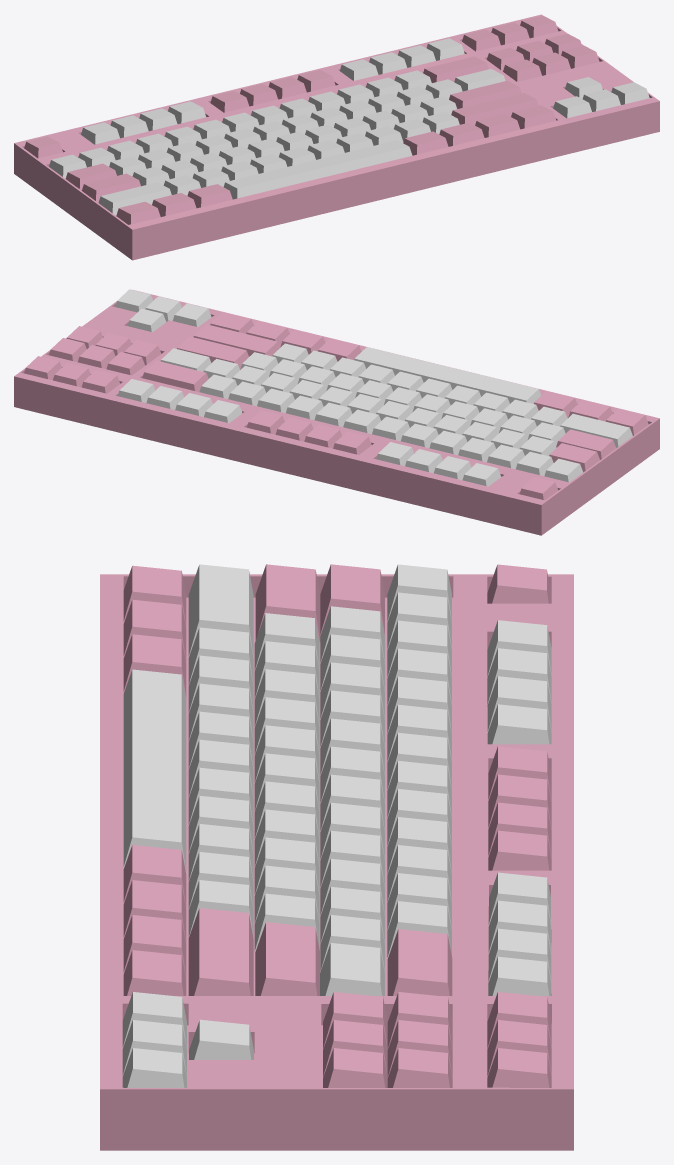
The model's file is keyboard.fbx.
3 views of the same model, one above another, from view 1: azimuth 30°, elevation 25°; view 2: azimuth 150°, elevation 25°; view 3: azimuth 270°, elevation 25° (orthographic). The views are drawn at different scales.
Visible parts, largest first — view 1: Cube, Cube.016, Cube.001, Cube.002, Cube.003, Cube.007, Cube.024, Cube.020, Cube.021, Cube.022, Cube.025, Cube.023 (+16 smaller); view 2: Cube, Cube.016, Cube.001, Cube.002, Cube.003, Cube.024, Cube.007, Cube.020, Cube.021, Cube.022, Cube.023, Cube.025 (+16 smaller); view 3: Cube, Cube.016, Cube.001, Cube.002, Cube.003, Cube.024, Cube.007, Cube.020, Cube.021, Cube.022, Cube.023, Cube.025 (+16 smaller).
Boxes of the visible parts, x1,y1,x2,y2 form: Cube: [14, 14, 659, 260]; Cube.016: [49, 70, 431, 178]; Cube.001: [109, 79, 462, 176]; Cube.002: [132, 96, 456, 186]; Cube.003: [163, 112, 459, 195]; Cube.007: [223, 140, 412, 199]; Cube.024: [487, 33, 599, 81]; Cube.020: [81, 101, 205, 144]; Cube.021: [210, 70, 335, 112]; Cube.022: [340, 38, 464, 80]; Cube.025: [553, 82, 649, 118]; Cube.023: [462, 15, 558, 51]; Cube: [14, 289, 659, 535]; Cube.016: [199, 374, 583, 482]; Cube.001: [203, 359, 556, 455]; Cube.002: [240, 352, 565, 446]; Cube.003: [272, 343, 567, 426]; Cube.024: [49, 326, 161, 375]; Cube.007: [354, 347, 541, 403]; Cube.020: [376, 442, 501, 486]; Cube.021: [247, 410, 371, 454]; Cube.022: [117, 379, 242, 422]; Cube.023: [24, 356, 120, 393]; Cube.025: [115, 289, 211, 326]; Cube: [100, 574, 573, 1150]; Cube.016: [387, 564, 451, 958]; Cube.001: [320, 606, 384, 972]; Cube.002: [254, 613, 319, 951]; Cube.003: [188, 627, 253, 937]; Cube.024: [323, 992, 452, 1087]; Cube.007: [123, 669, 186, 873]; Cube.020: [487, 620, 551, 744]; Cube.021: [488, 746, 551, 870]; Cube.022: [488, 872, 551, 995]; Cube.023: [487, 992, 551, 1087]; Cube.025: [122, 992, 186, 1087].
Size of the model in its own units: 36 by 2.5 by 14.
